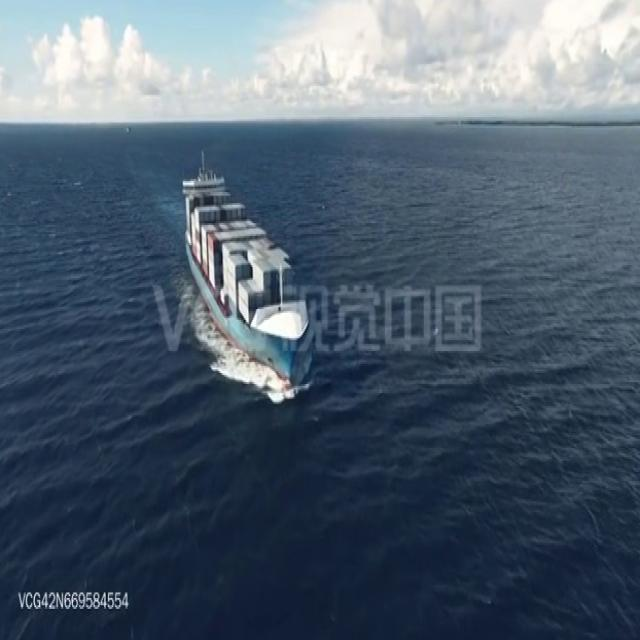cargoship: (177, 155, 309, 390)
